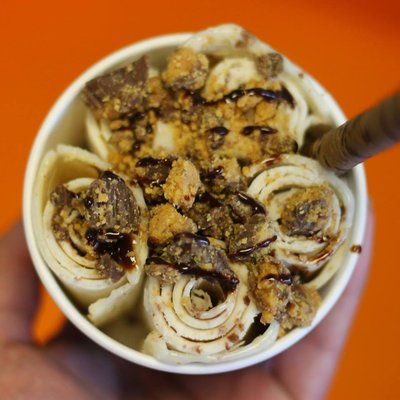sushi: (18, 76, 372, 378)
